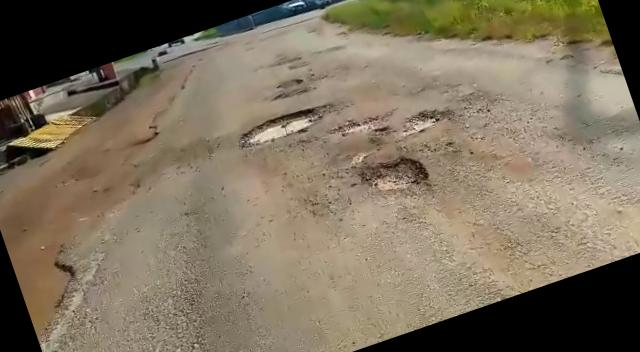pothole: (234, 97, 338, 154), (356, 145, 432, 200), (400, 99, 459, 136), (329, 110, 384, 144)
